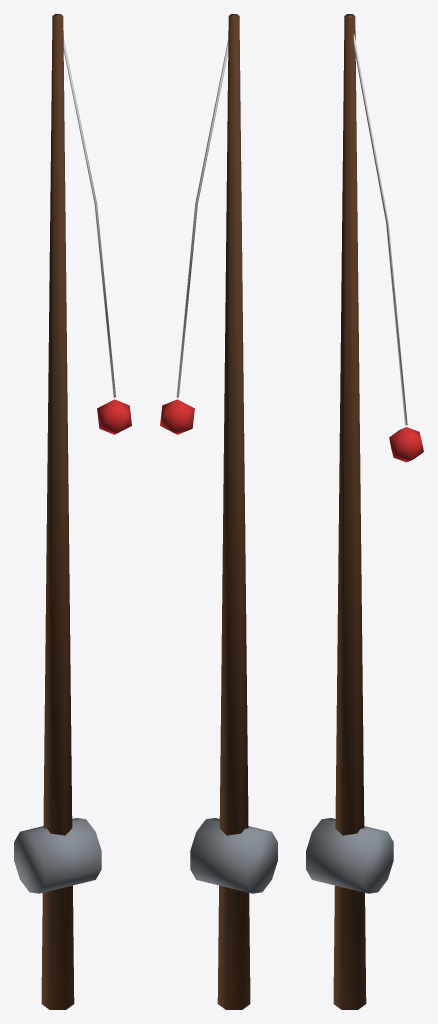
The model's file is wooden_fishing_pole.glb.
The picture shows the model from 3 angles, left to right: view 1: azimuth 30°, elevation 25°; view 2: azimuth 150°, elevation 25°; view 3: azimuth 330°, elevation 25°; orthographic projection.
Visible parts, largest first — view 1: wooden_fishing_pole_v0; view 2: wooden_fishing_pole_v0; view 3: wooden_fishing_pole_v0.
Part boxes in pixels (x1,y1,x2,y2): wooden_fishing_pole_v0: (14, 14, 131, 1009); wooden_fishing_pole_v0: (160, 14, 277, 1009); wooden_fishing_pole_v0: (306, 14, 423, 1009).
Size of the model in its own units: 0.1061 by 1 by 0.0571.
